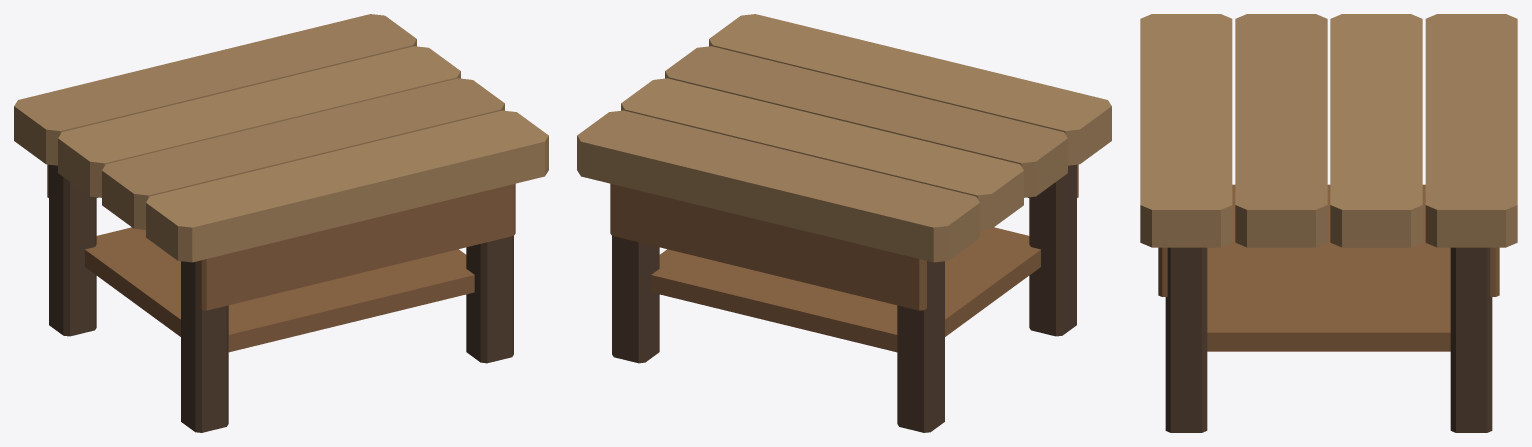
Rendered from table_coffee.glb.
3 views of the same model, side by side, from view 1: azimuth 30°, elevation 25°; view 2: azimuth 150°, elevation 25°; view 3: azimuth 270°, elevation 25° (orthographic). The views are drawn at different scales.
Visible parts, largest first — view 1: geometry; view 2: geometry; view 3: geometry.
Boxes of the visible parts, bbox=[...] form: geometry: bbox=[14, 14, 548, 432]; geometry: bbox=[577, 14, 1111, 432]; geometry: bbox=[1140, 14, 1517, 432].
Size of the model in its own units: 0.78 by 0.44 by 0.635.
